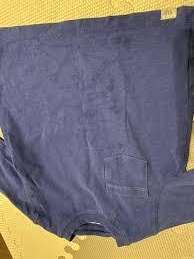oil: (100, 79, 116, 101), (111, 140, 128, 152)
